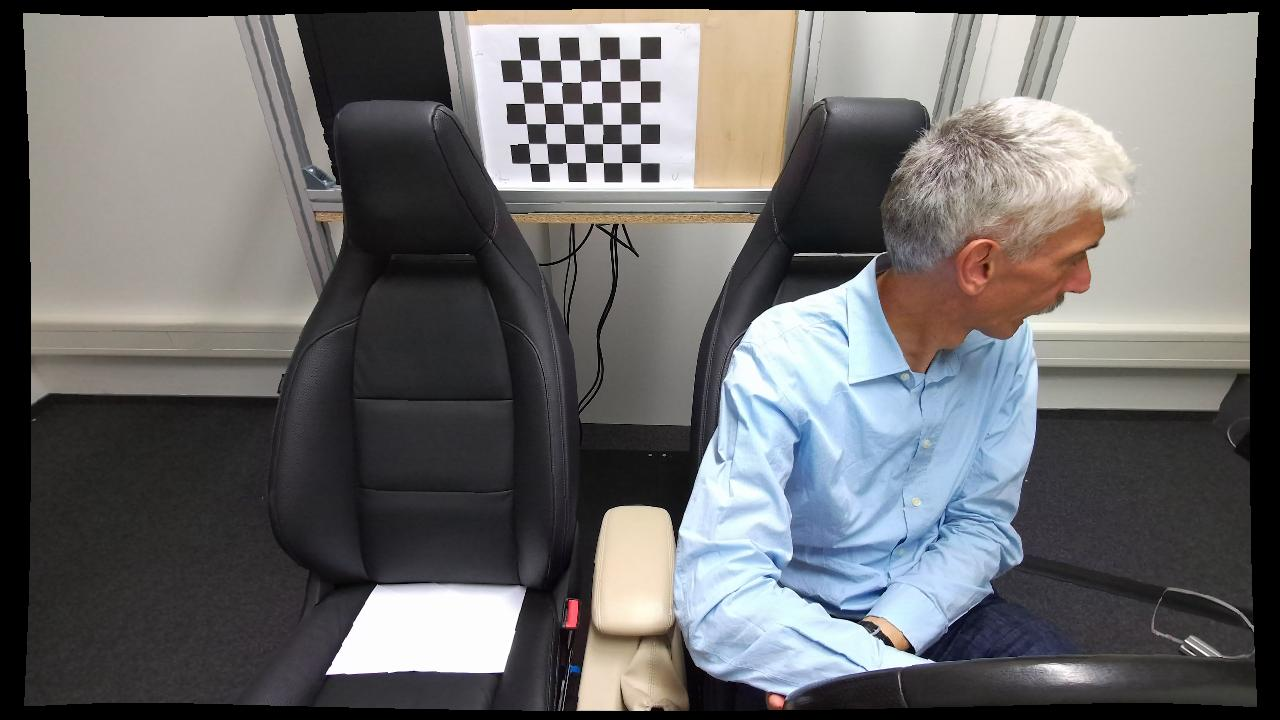Distracted: (666, 91, 1147, 714)
